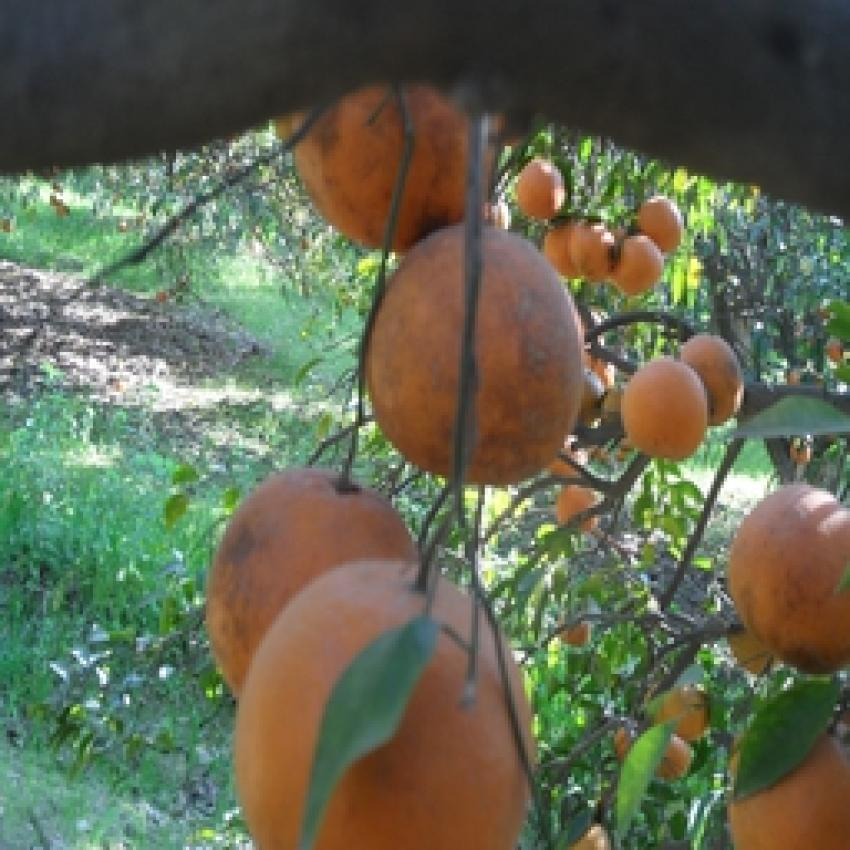Mal estado: (225, 549, 546, 847), (360, 223, 584, 498), (192, 451, 432, 676), (280, 66, 490, 251)
